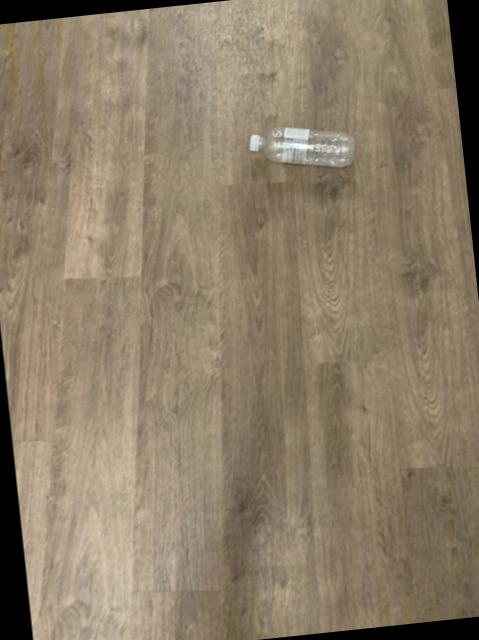plastic: (250, 125, 354, 165)
